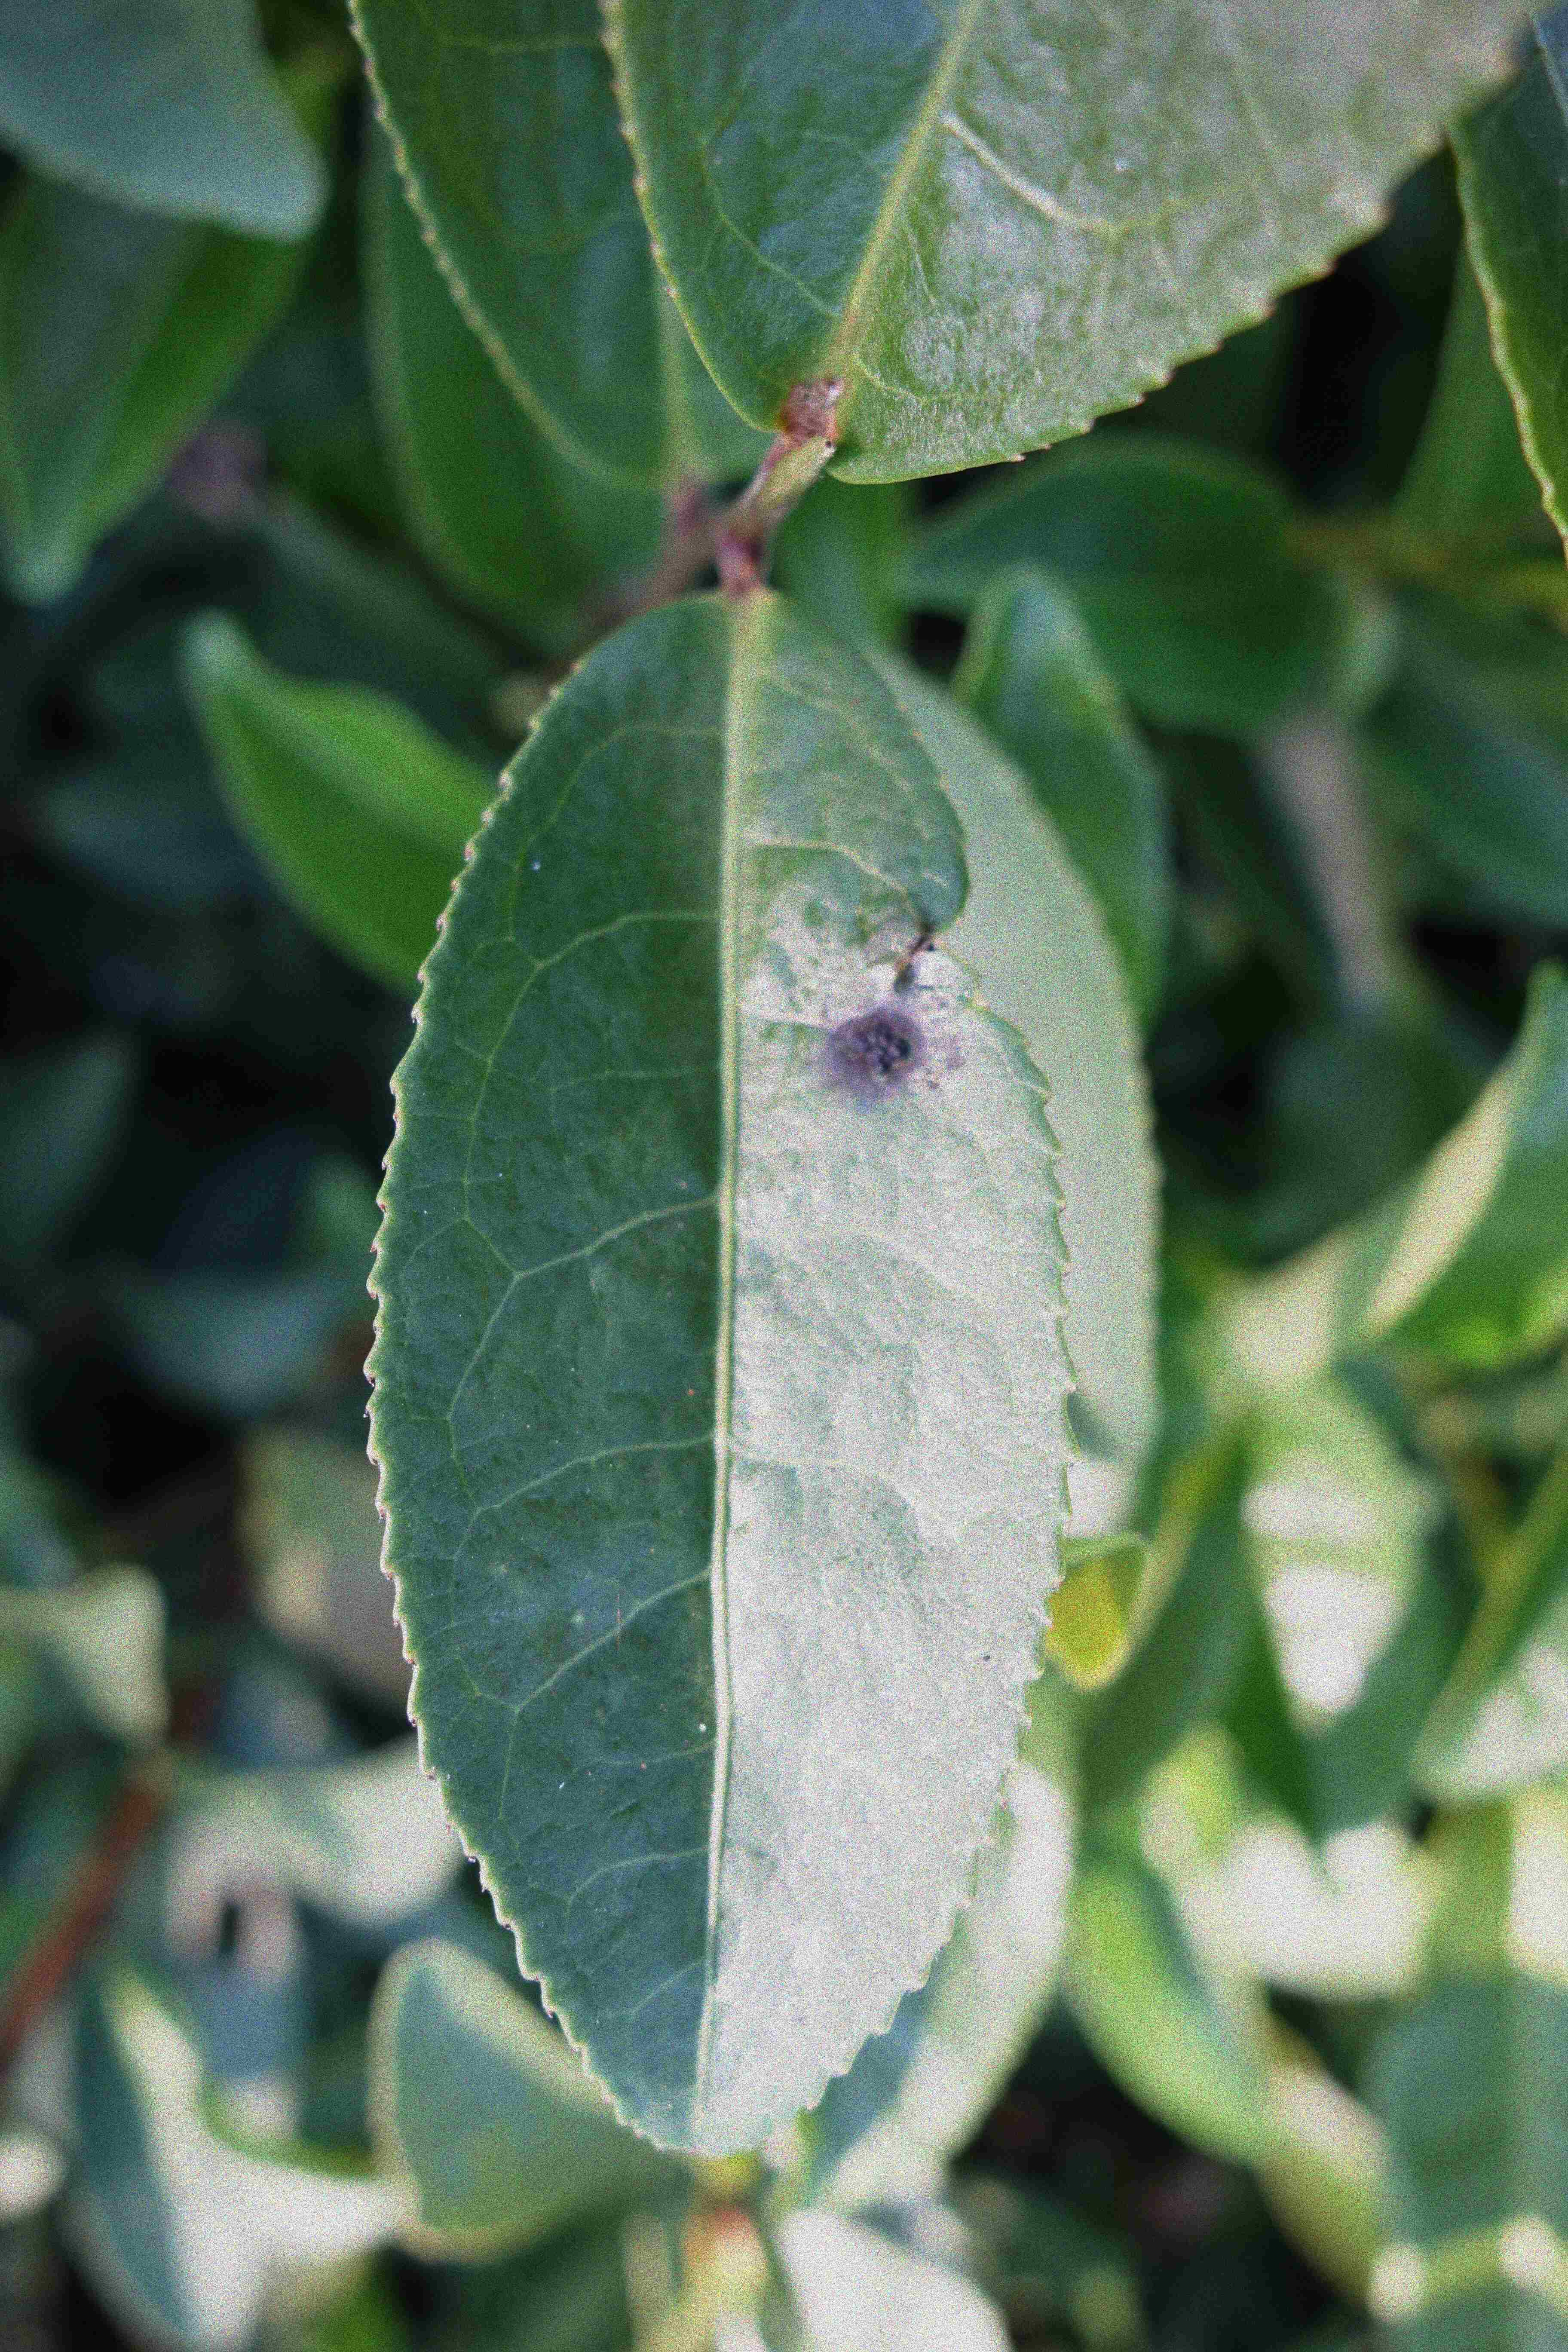tanju_low: (348, 549, 1087, 2161)
